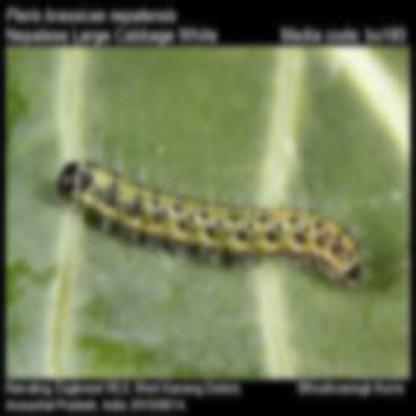pieris: (55, 162, 369, 284)
